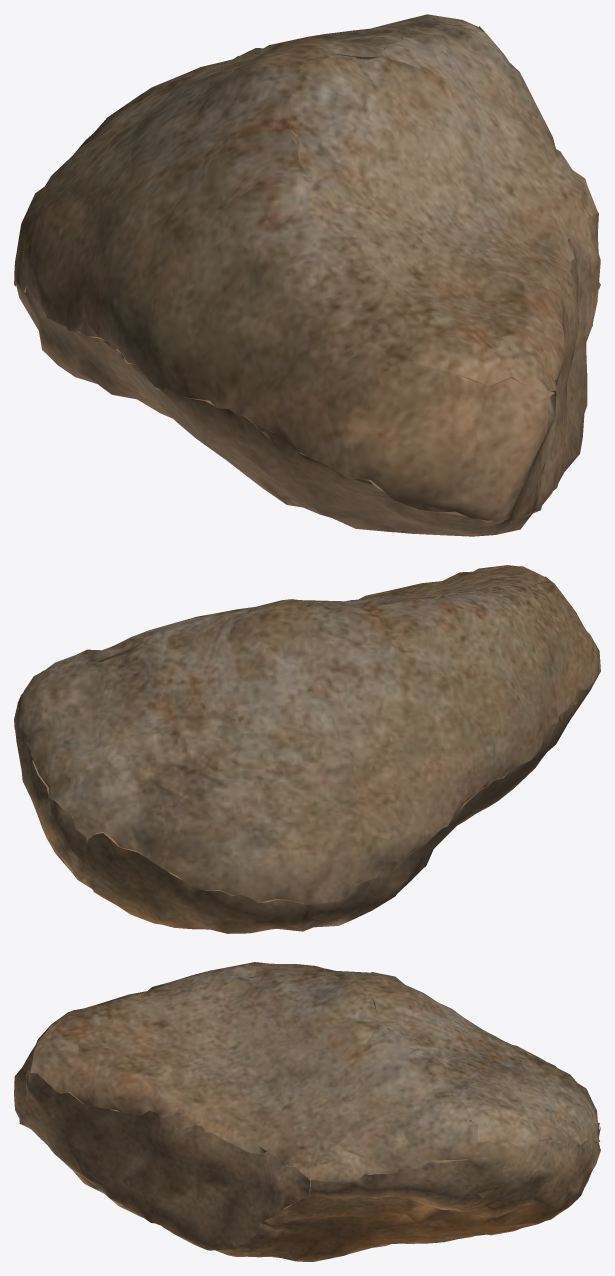
File: namaqualand_boulders_01_b.gltf.lod.glb
3 views of the same model, one above another, from view 1: azimuth 30°, elevation 25°; view 2: azimuth 150°, elevation 25°; view 3: azimuth 270°, elevation 25° (orthographic). The views are drawn at different scales.
Parts seen in each view (by area): view 1: namaqualand_rocks_01_a; view 2: namaqualand_rocks_01_a; view 3: namaqualand_rocks_01_a.
Boxes of the visible parts, <box> form: namaqualand_rocks_01_a: <box>14,14,600,536</box>; namaqualand_rocks_01_a: <box>14,565,600,933</box>; namaqualand_rocks_01_a: <box>14,962,600,1261</box>.
Size of the model in its own units: 0.3637 by 0.2521 by 0.5522.
Materials: 1 (1 with a texture image).
